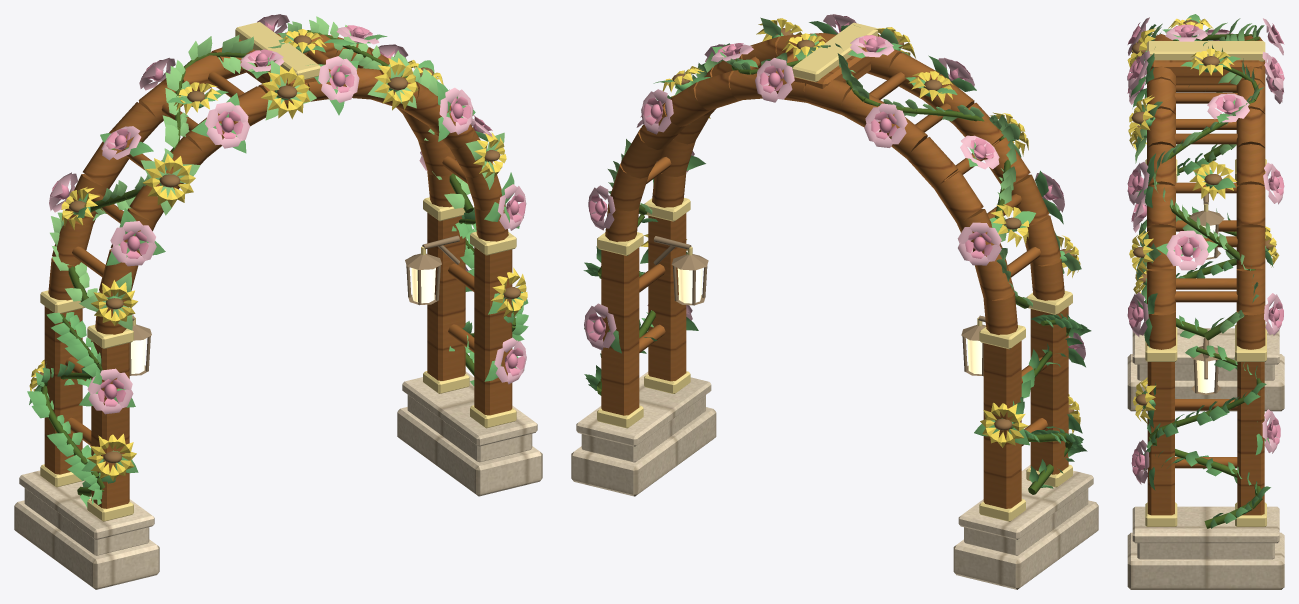
File: flower-arch.glb
The picture shows the model from 3 angles, left to right: view 1: azimuth 30°, elevation 25°; view 2: azimuth 150°, elevation 25°; view 3: azimuth 270°, elevation 25°; orthographic projection. The views are drawn at different scales.
Parts seen in each view (by area): view 1: flower-arch; view 2: flower-arch; view 3: flower-arch.
Boxes of the visible parts, x1=… form: flower-arch: x1=14, y1=14, x2=542, y2=589; flower-arch: x1=571, y1=14, x2=1098, y2=589; flower-arch: x1=1127, y1=14, x2=1284, y2=589.
Bounding box in the file's own units: 3.16 × 3.1 × 0.9834.
13 materials, 3 textured.
